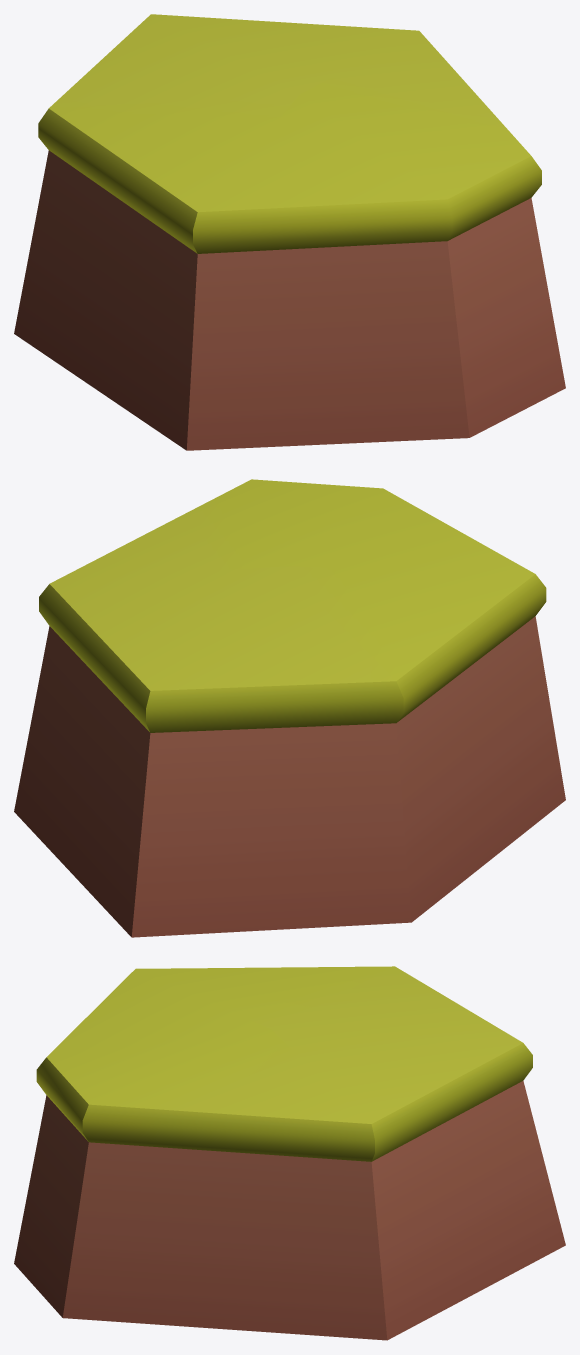
Rendered from d_kaykit_butte_c.glb.
The picture shows the model from 3 angles, top to bottom: view 1: azimuth 30°, elevation 25°; view 2: azimuth 150°, elevation 25°; view 3: azimuth 270°, elevation 25°; orthographic projection. The views are drawn at different scales.
Visible parts, largest first — view 1: d_kaykit_butte_c; view 2: d_kaykit_butte_c; view 3: d_kaykit_butte_c.
Boxes of the visible parts, left/top/right/bottom form: d_kaykit_butte_c: left=14, top=14, right=565, bottom=450; d_kaykit_butte_c: left=14, top=479, right=565, bottom=937; d_kaykit_butte_c: left=14, top=966, right=565, bottom=1340.
Size of the model in its own units: 1.02 by 0.5886 by 1.32.
1 material, 1 textured.
